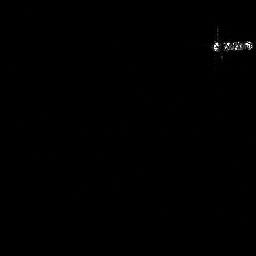ship: (207, 35, 256, 60)
